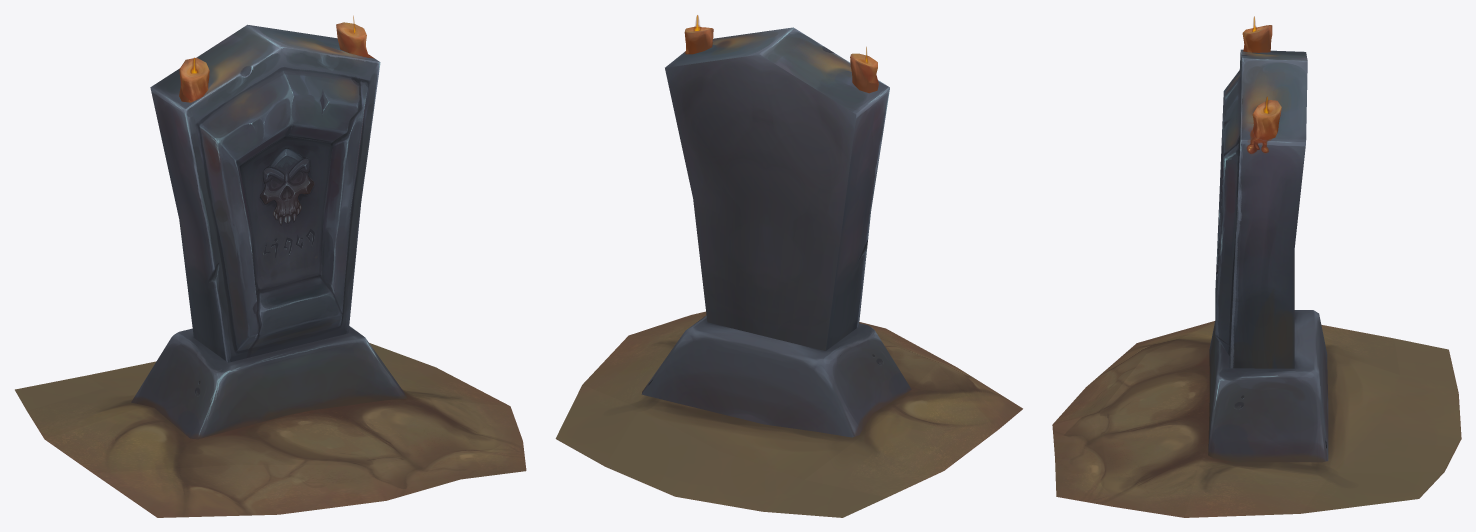
File: stylized_cartoonytomb-stone.glb
3 renders of one model, left to right at view 1: azimuth 30°, elevation 25°; view 2: azimuth 150°, elevation 25°; view 3: azimuth 270°, elevation 25°, orthographic. The views are drawn at different scales.
Visible parts, largest first — view 1: Grave, Ground; view 2: Grave, Ground; view 3: Ground, Grave.
Boxes of the visible parts, bbox=[...] form: Grave: bbox=[131, 22, 407, 439]; Ground: bbox=[15, 343, 526, 517]; Grave: bbox=[641, 26, 911, 437]; Ground: bbox=[555, 311, 1022, 517]; Ground: bbox=[1052, 321, 1461, 517]; Grave: bbox=[1208, 25, 1328, 462].
Size of the model in its own units: 3.12 by 3.03 by 2.92.
Materials: 3 (3 with a texture image).
